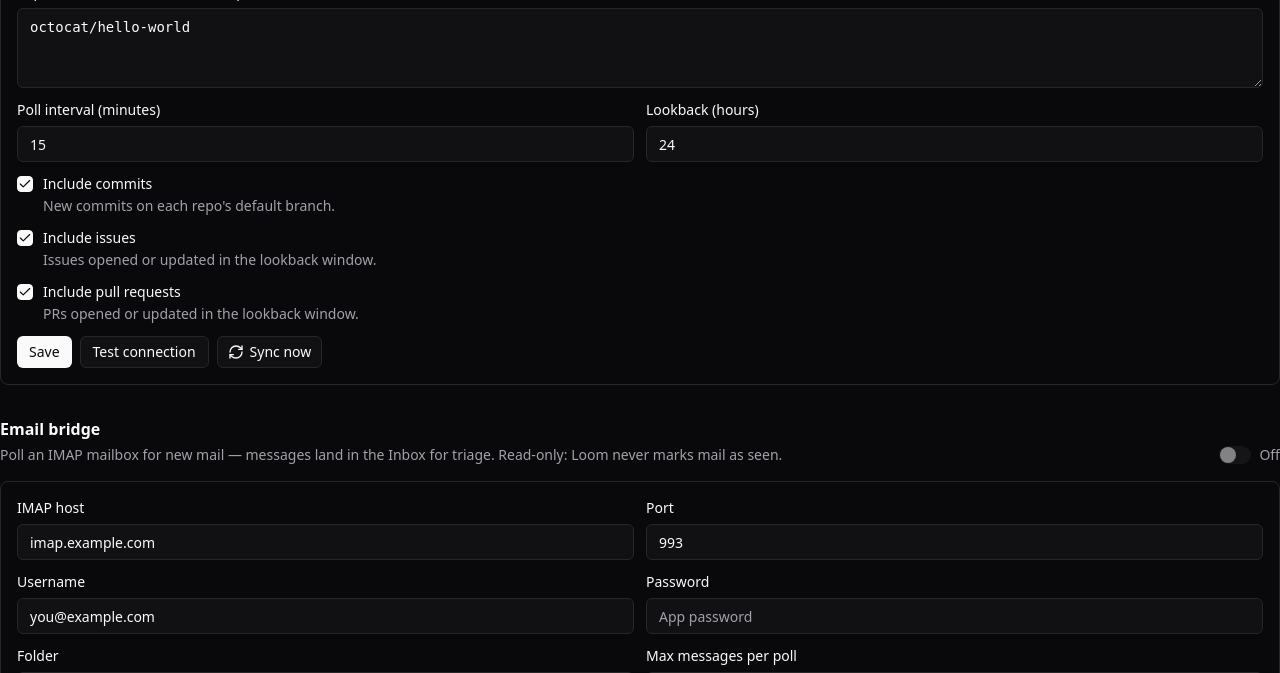
Test: ConnectionsSection › tests GitHub repos and renders per-repo results
(page scrolled)
Expected: the text box showing "octocat/hello-world" is shown, [17,8,1263,88]
Click the button with aria-label "Test GitHub connection" at (144, 352), box [80,336,209,368]
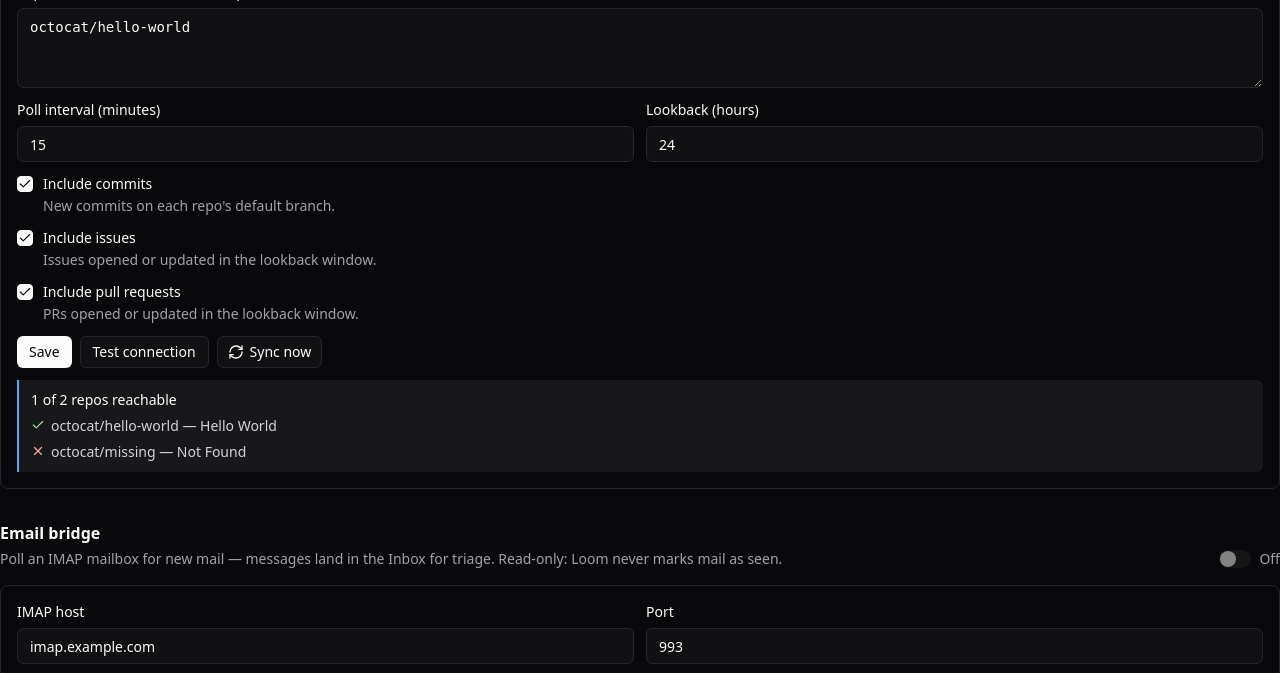
Expected: the text "1 of 2 repos reachable" is shown, [31,390,177,409]
Expected: the text "octocat/hello-world — Hello World" is shown, [51,416,277,436]
Expected: the text "octocat/missing — Not Found" is shown, [51,442,246,462]
